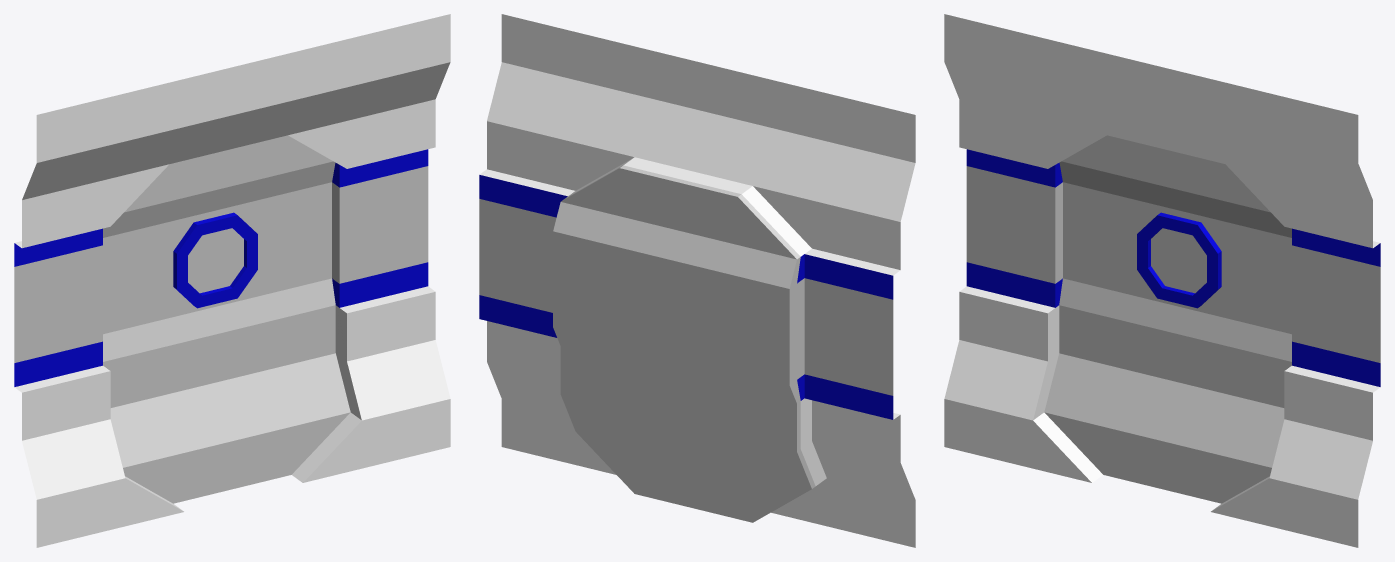
File: Door.fbx
The picture shows the model from 3 angles, left to right: view 1: azimuth 30°, elevation 25°; view 2: azimuth 150°, elevation 25°; view 3: azimuth 330°, elevation 25°; orthographic projection.
Visible parts, largest first — view 1: Door; view 2: Door; view 3: Door.
Boxes of the visible parts, x1=… form: Door: x1=14, y1=14, x2=450, y2=547; Door: x1=479, y1=14, x2=915, y2=547; Door: x1=944, y1=14, x2=1380, y2=547.
Bounding box in the file's own units: 2 × 2 × 0.3125.
